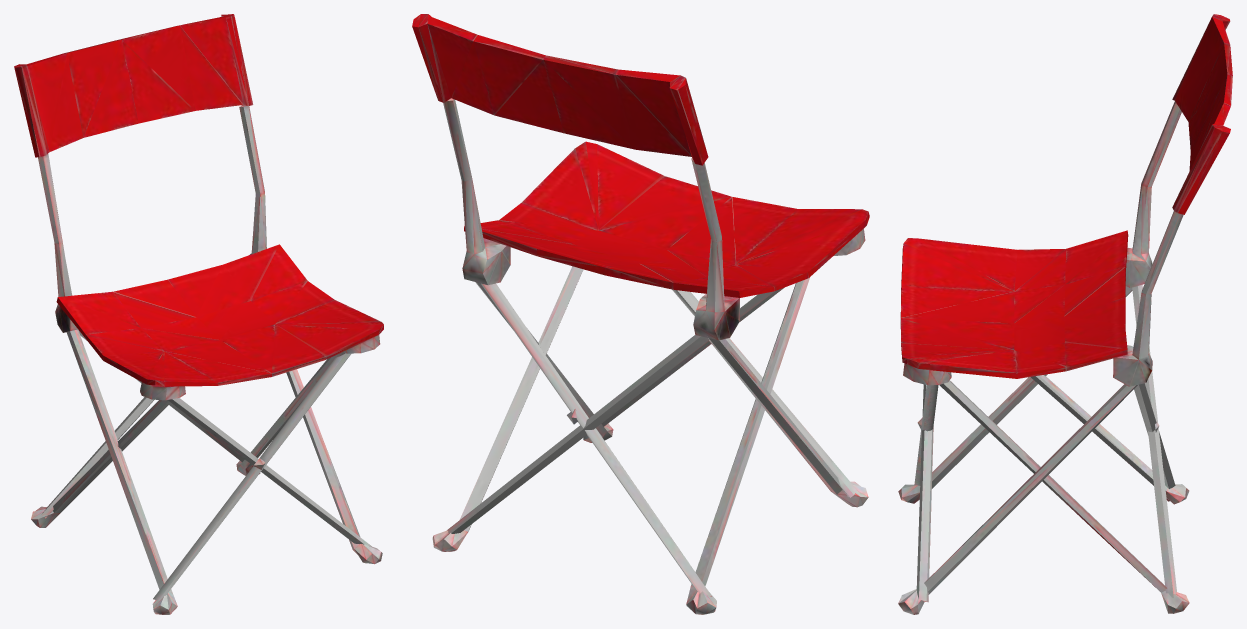
The model's file is thermchair.glb.
The picture shows the model from 3 angles, left to right: view 1: azimuth 30°, elevation 25°; view 2: azimuth 150°, elevation 25°; view 3: azimuth 270°, elevation 25°; orthographic projection. The views are drawn at different scales.
Parts seen in each view (by area): view 1: Mesh_0; view 2: Mesh_0; view 3: Mesh_0.
Part boxes in pixels (bbox=[...]): Mesh_0: bbox=[14, 14, 383, 614]; Mesh_0: bbox=[412, 14, 869, 614]; Mesh_0: bbox=[898, 14, 1232, 614].
Size of the model in its own units: 36.17 by 65.5 by 40.91.
Materials: 1 (1 with a texture image).
